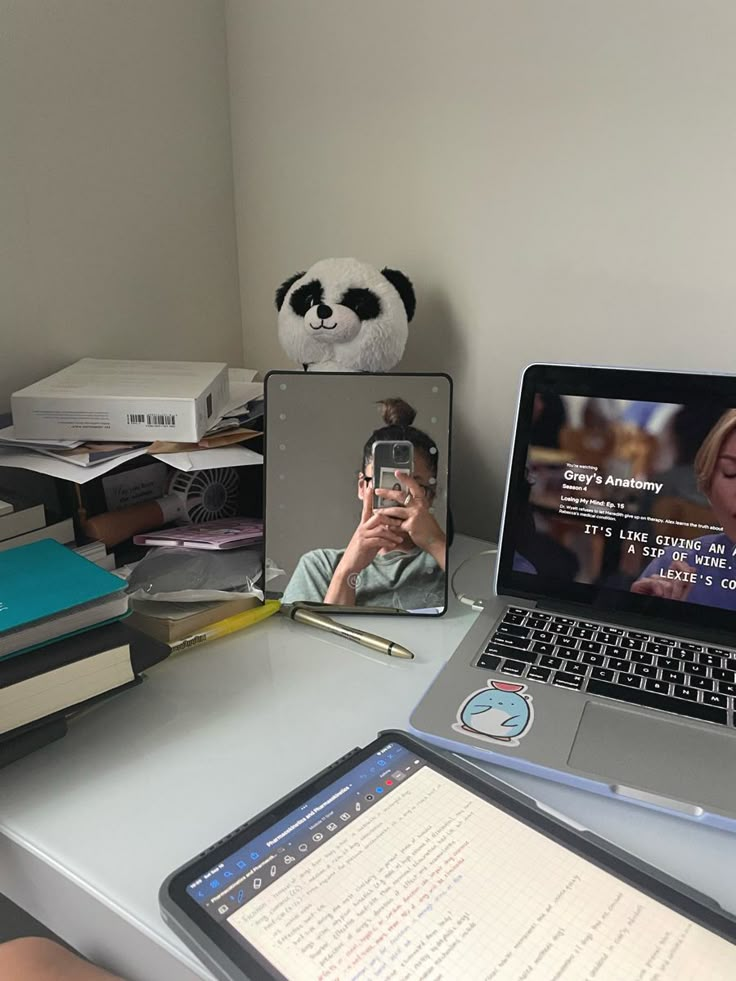not a gesture sign: (70, 1, 637, 356)
